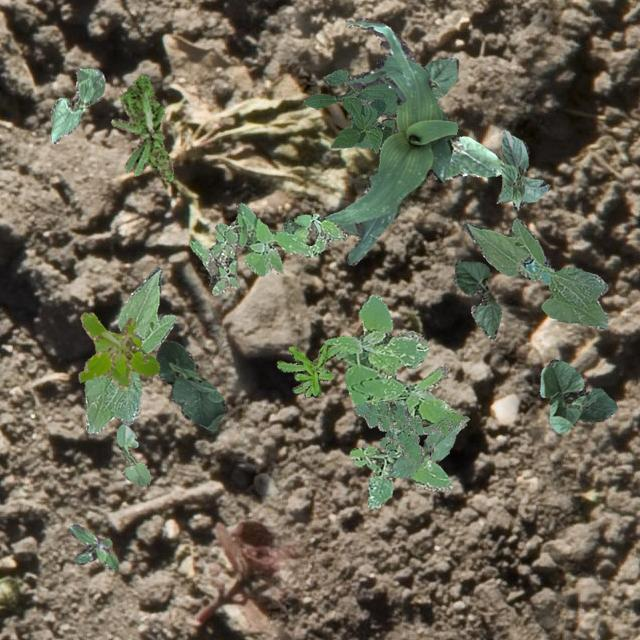crop: (322, 17, 457, 264), (462, 216, 608, 328), (84, 266, 176, 432), (302, 68, 396, 152), (154, 340, 226, 430), (538, 358, 616, 432), (436, 105, 504, 178), (496, 130, 550, 210), (386, 424, 461, 478), (50, 68, 104, 142), (452, 260, 500, 340), (116, 422, 150, 484), (422, 56, 458, 98)
weed: (322, 292, 466, 508), (188, 202, 346, 294), (354, 398, 468, 462), (110, 74, 172, 180), (78, 312, 158, 389), (276, 344, 338, 396), (68, 524, 116, 570)
